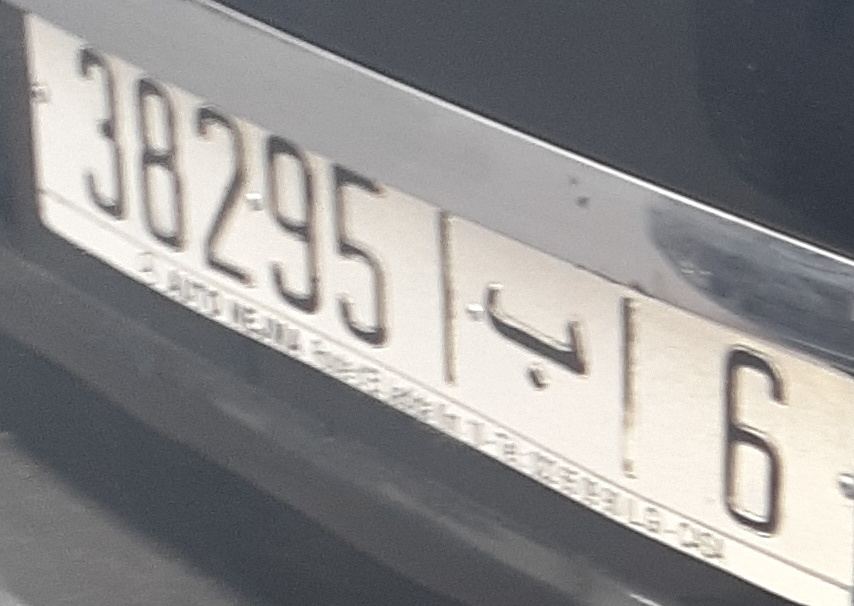2: (188, 100, 259, 298)
3: (69, 41, 132, 227)
5: (325, 157, 396, 355)
6: (718, 337, 791, 541)
8: (131, 68, 194, 262)
9: (257, 128, 323, 324)
b: (477, 271, 592, 396)
